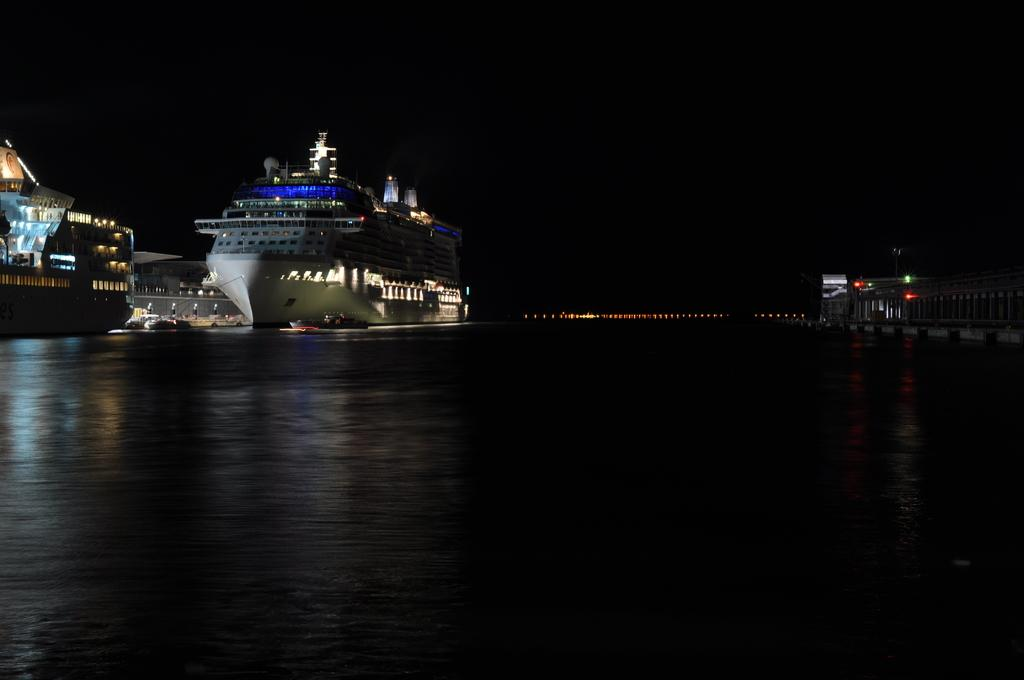PassengerShip: (189, 142, 475, 326), (0, 138, 136, 338)
